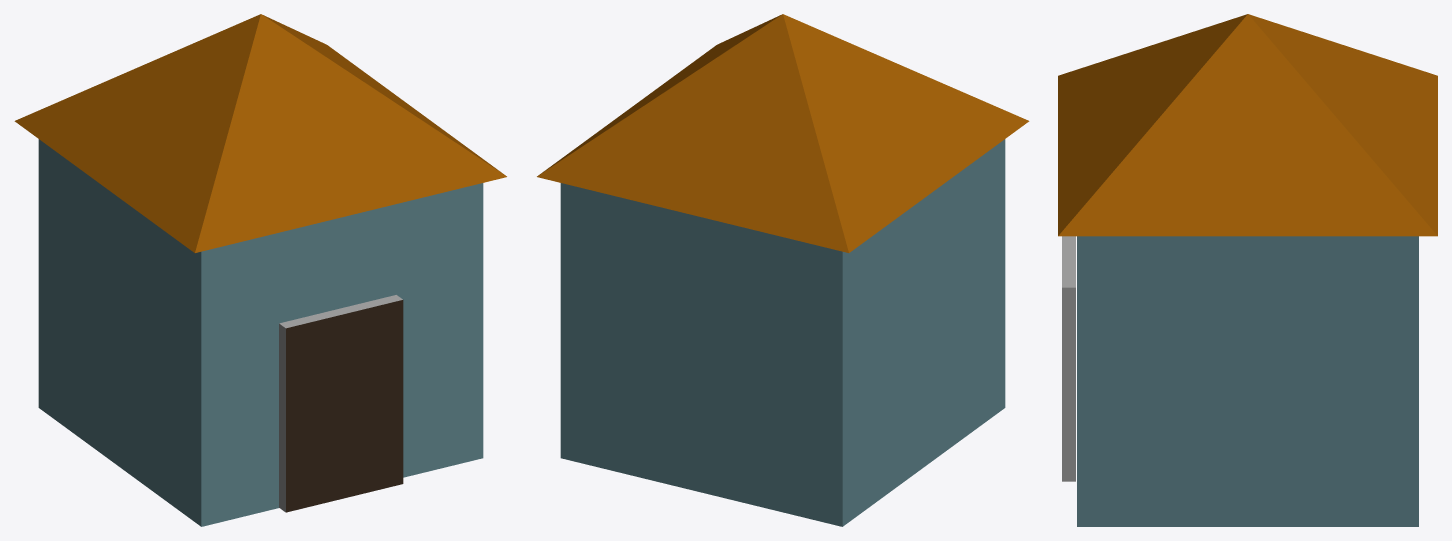
File: Casa_show_color.fbx
The picture shows the model from 3 angles, left to right: view 1: azimuth 30°, elevation 25°; view 2: azimuth 150°, elevation 25°; view 3: azimuth 270°, elevation 25°; orthographic projection. The views are drawn at different scales.
Visible parts, largest first — view 1: pCube3; view 2: pCube3; view 3: pCube3.
Part boxes in pixels (<box>): pCube3: <box>14,14,506,526</box>; pCube3: <box>537,14,1029,526</box>; pCube3: <box>1058,14,1437,526</box>.
Bounding box in the file's own units: 13.32 × 17.06 × 13.32.
